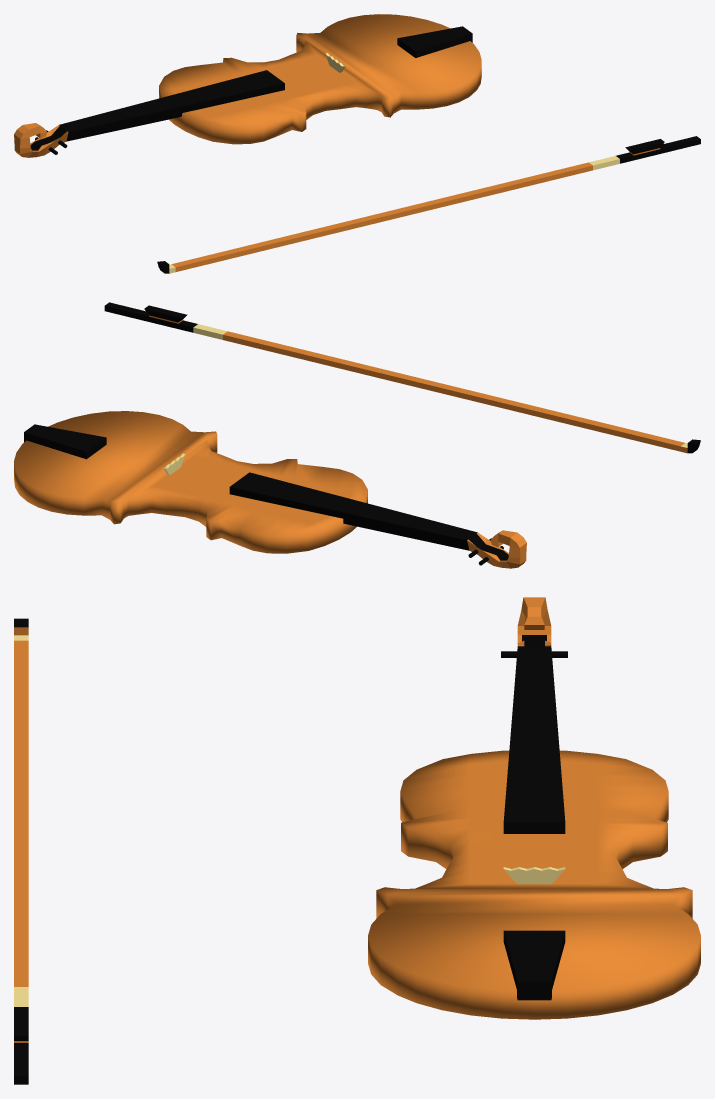
File: Simple_Violin.glb
3 views of the same model, one above another, from view 1: azimuth 30°, elevation 25°; view 2: azimuth 150°, elevation 25°; view 3: azimuth 270°, elevation 25° (orthographic). The views are drawn at different scales.
Visible parts, largest first — view 1: Violin.Body_VioWood_0, Violin.FingerBar_VioNeck_0, Violin.Bow_VioWood_0, Violin.StringBase_VioNeck_0, Violin.Bow_VioNeck_0, Violin.FingerBar_VioWood_0; view 2: Violin.Body_VioWood_0, Violin.FingerBar_VioNeck_0, Violin.Bow_VioWood_0, Violin.StringBase_VioNeck_0, Violin.Bow_VioNeck_0, Violin.FingerBar_VioWood_0; view 3: Violin.Body_VioWood_0, Violin.FingerBar_VioNeck_0, Violin.Bow_VioWood_0, Violin.StringBase_VioNeck_0, Violin.Bow_VioNeck_0, Violin.FingerBar_VioWood_0, Violin.StringBar_Bridge_0.
Part boxes in pixels (box(x1,y1,x2,y2)): Violin.Body_VioWood_0: box(159, 14, 481, 144); Violin.FingerBar_VioNeck_0: box(30, 70, 284, 150); Violin.Bow_VioWood_0: box(171, 148, 660, 271); Violin.StringBase_VioNeck_0: box(397, 26, 472, 57); Violin.Bow_VioNeck_0: box(157, 136, 700, 273); Violin.FingerBar_VioWood_0: box(14, 123, 68, 157); Violin.Body_VioWood_0: box(14, 411, 367, 553); Violin.FingerBar_VioNeck_0: box(229, 472, 508, 560); Violin.Bow_VioWood_0: box(149, 315, 687, 453); Violin.StringBase_VioNeck_0: box(24, 424, 106, 459); Violin.Bow_VioNeck_0: box(104, 302, 700, 453); Violin.FingerBar_VioWood_0: box(467, 530, 526, 568); Violin.Body_VioWood_0: box(368, 750, 700, 1019); Violin.FingerBar_VioNeck_0: box(503, 635, 565, 833); Violin.Bow_VioWood_0: box(14, 627, 28, 1042); Violin.StringBase_VioNeck_0: box(503, 930, 565, 1000); Violin.Bow_VioNeck_0: box(14, 618, 28, 1084); Violin.FingerBar_VioWood_0: box(517, 597, 551, 646); Violin.StringBar_Bridge_0: box(503, 867, 565, 884).
Bounding box in the file's own units: 1016 × 70.14 × 659.
